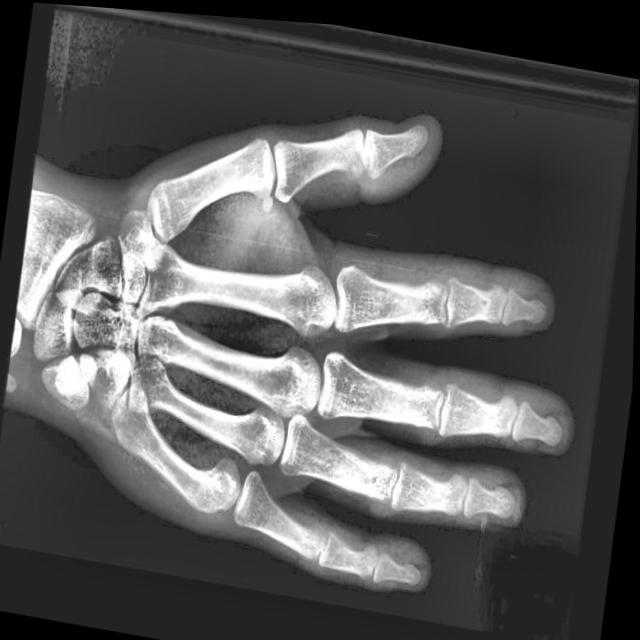fracture: (391, 370, 444, 425), (196, 460, 234, 512)
